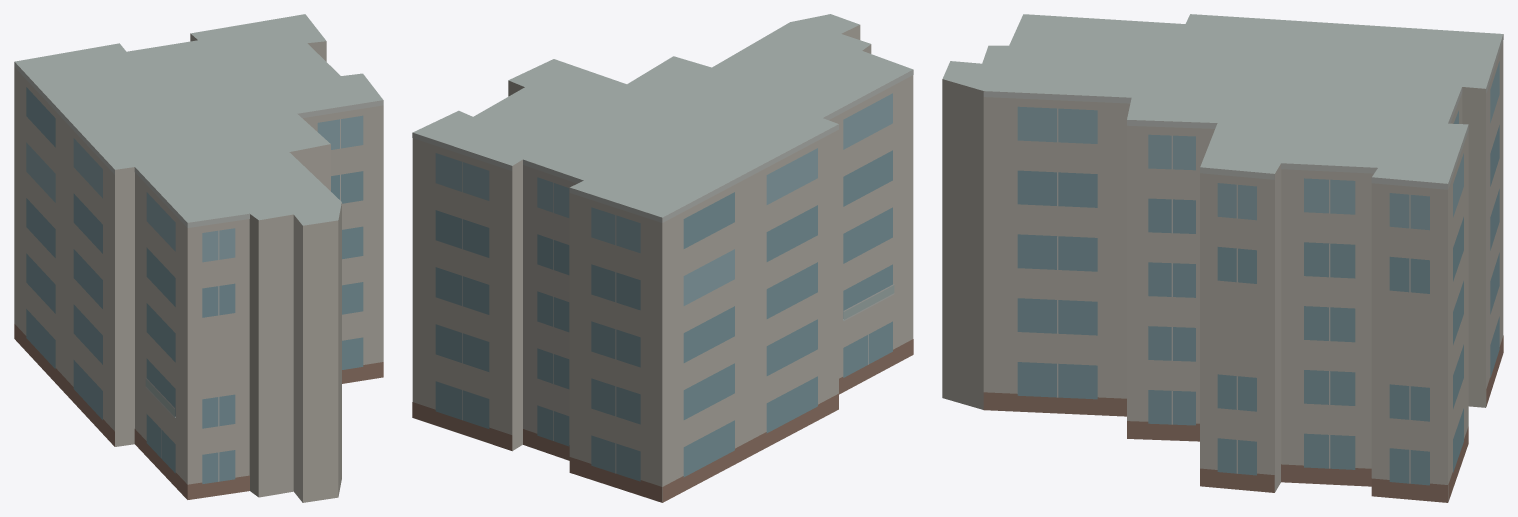
File: survey-upis-32767328.glb
3 views of the same model, side by side, from view 1: azimuth 30°, elevation 25°; view 2: azimuth 150°, elevation 25°; view 3: azimuth 270°, elevation 25° (orthographic). The views are drawn at different scales.
Parts seen in each view (by area): view 1: survey-upis-32767328.tmp; view 2: survey-upis-32767328.tmp; view 3: survey-upis-32767328.tmp.
Boxes of the visible parts, x1,y1,x2,y2 form: survey-upis-32767328.tmp: (14,14,383,502); survey-upis-32767328.tmp: (412,14,913,502); survey-upis-32767328.tmp: (942,14,1503,502).
Size of the model in its own units: 14.85 by 13 by 20.72.
